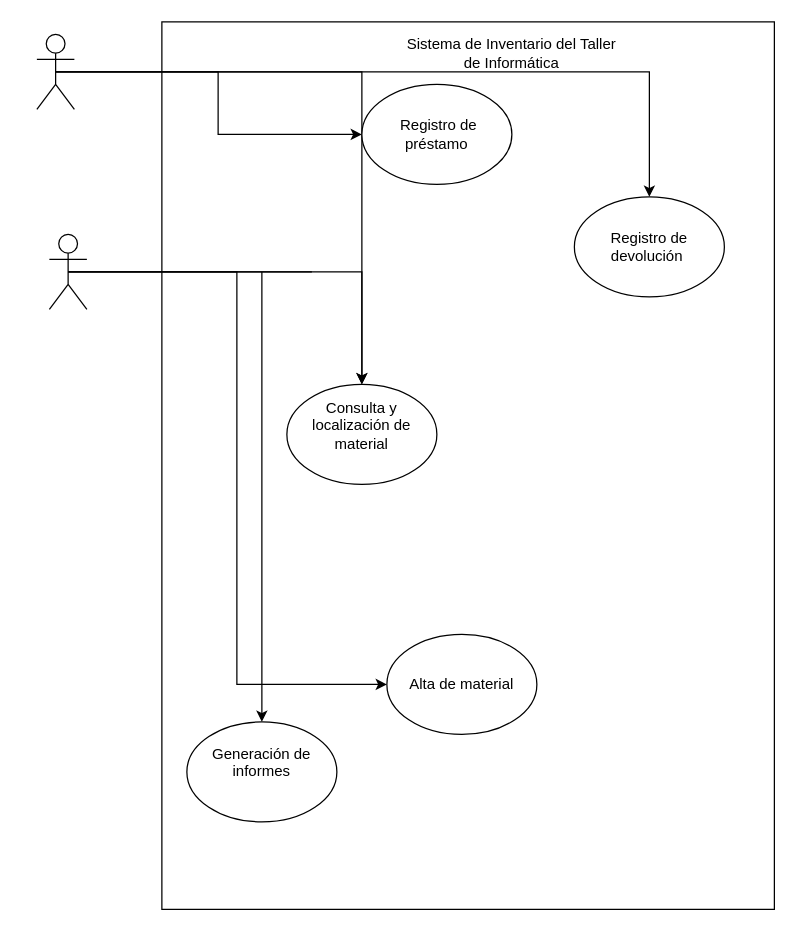
Image size: 796x931. Some labels were removed from this diagram. The centre of each missing label's shape, as x and y in pixels:
Administrador: the point at 67,271
Profesor: the point at 55,71
